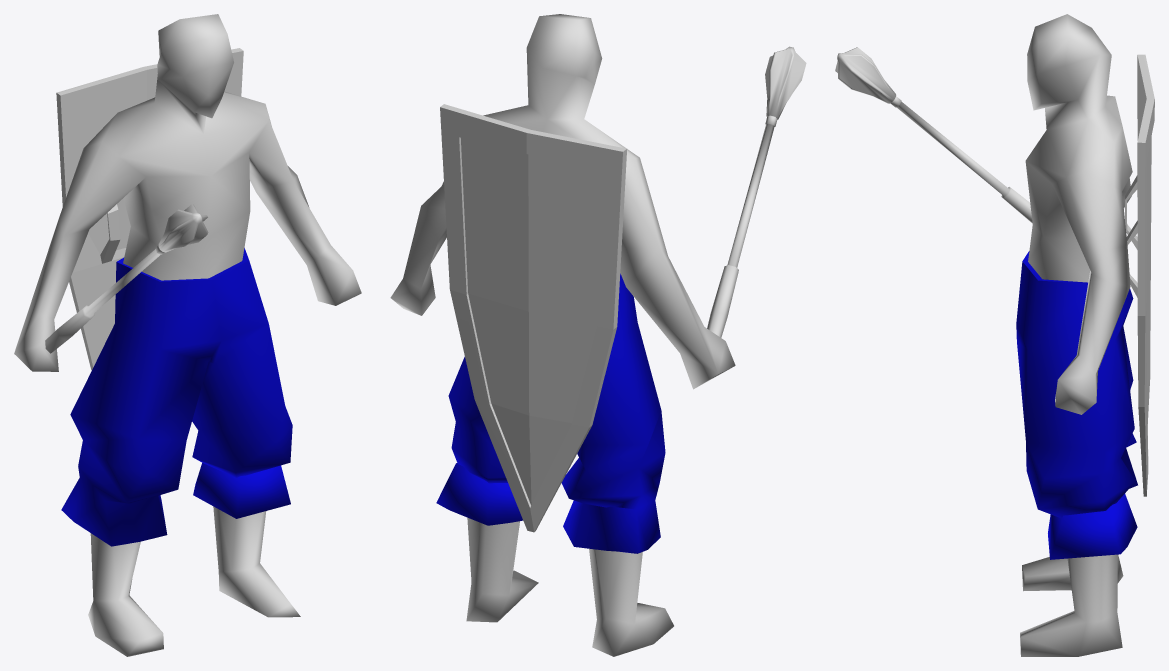
Rendered from PaladinAllié.fbx.
3 views of the same model, side by side, from view 1: azimuth 30°, elevation 25°; view 2: azimuth 150°, elevation 25°; view 3: azimuth 270°, elevation 25° (orthographic).
Visible parts, largest first — view 1: Cylinder.015; view 2: Cylinder.015; view 3: Cylinder.015.
Boxes of the visible parts, bbox=[...] form: Cylinder.015: bbox=[14, 14, 361, 656]; Cylinder.015: bbox=[390, 14, 806, 656]; Cylinder.015: bbox=[835, 14, 1154, 656].
Bounding box in the file's own units: 107 × 188 × 91.53.
